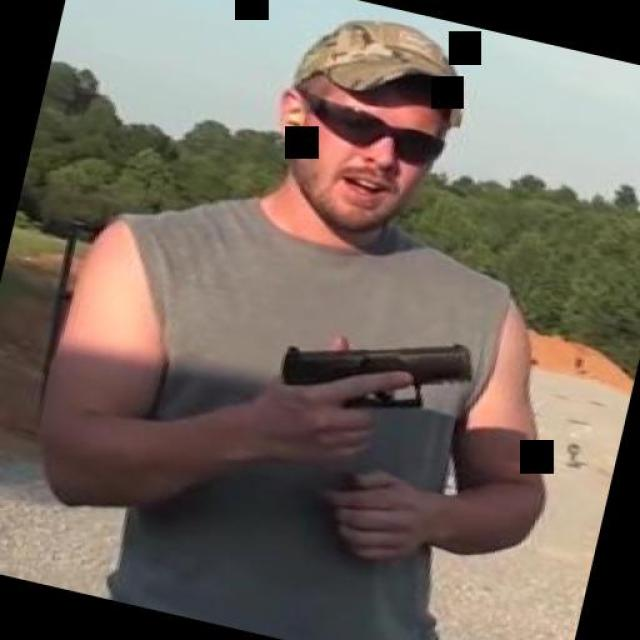gun: (259, 304, 481, 481)
